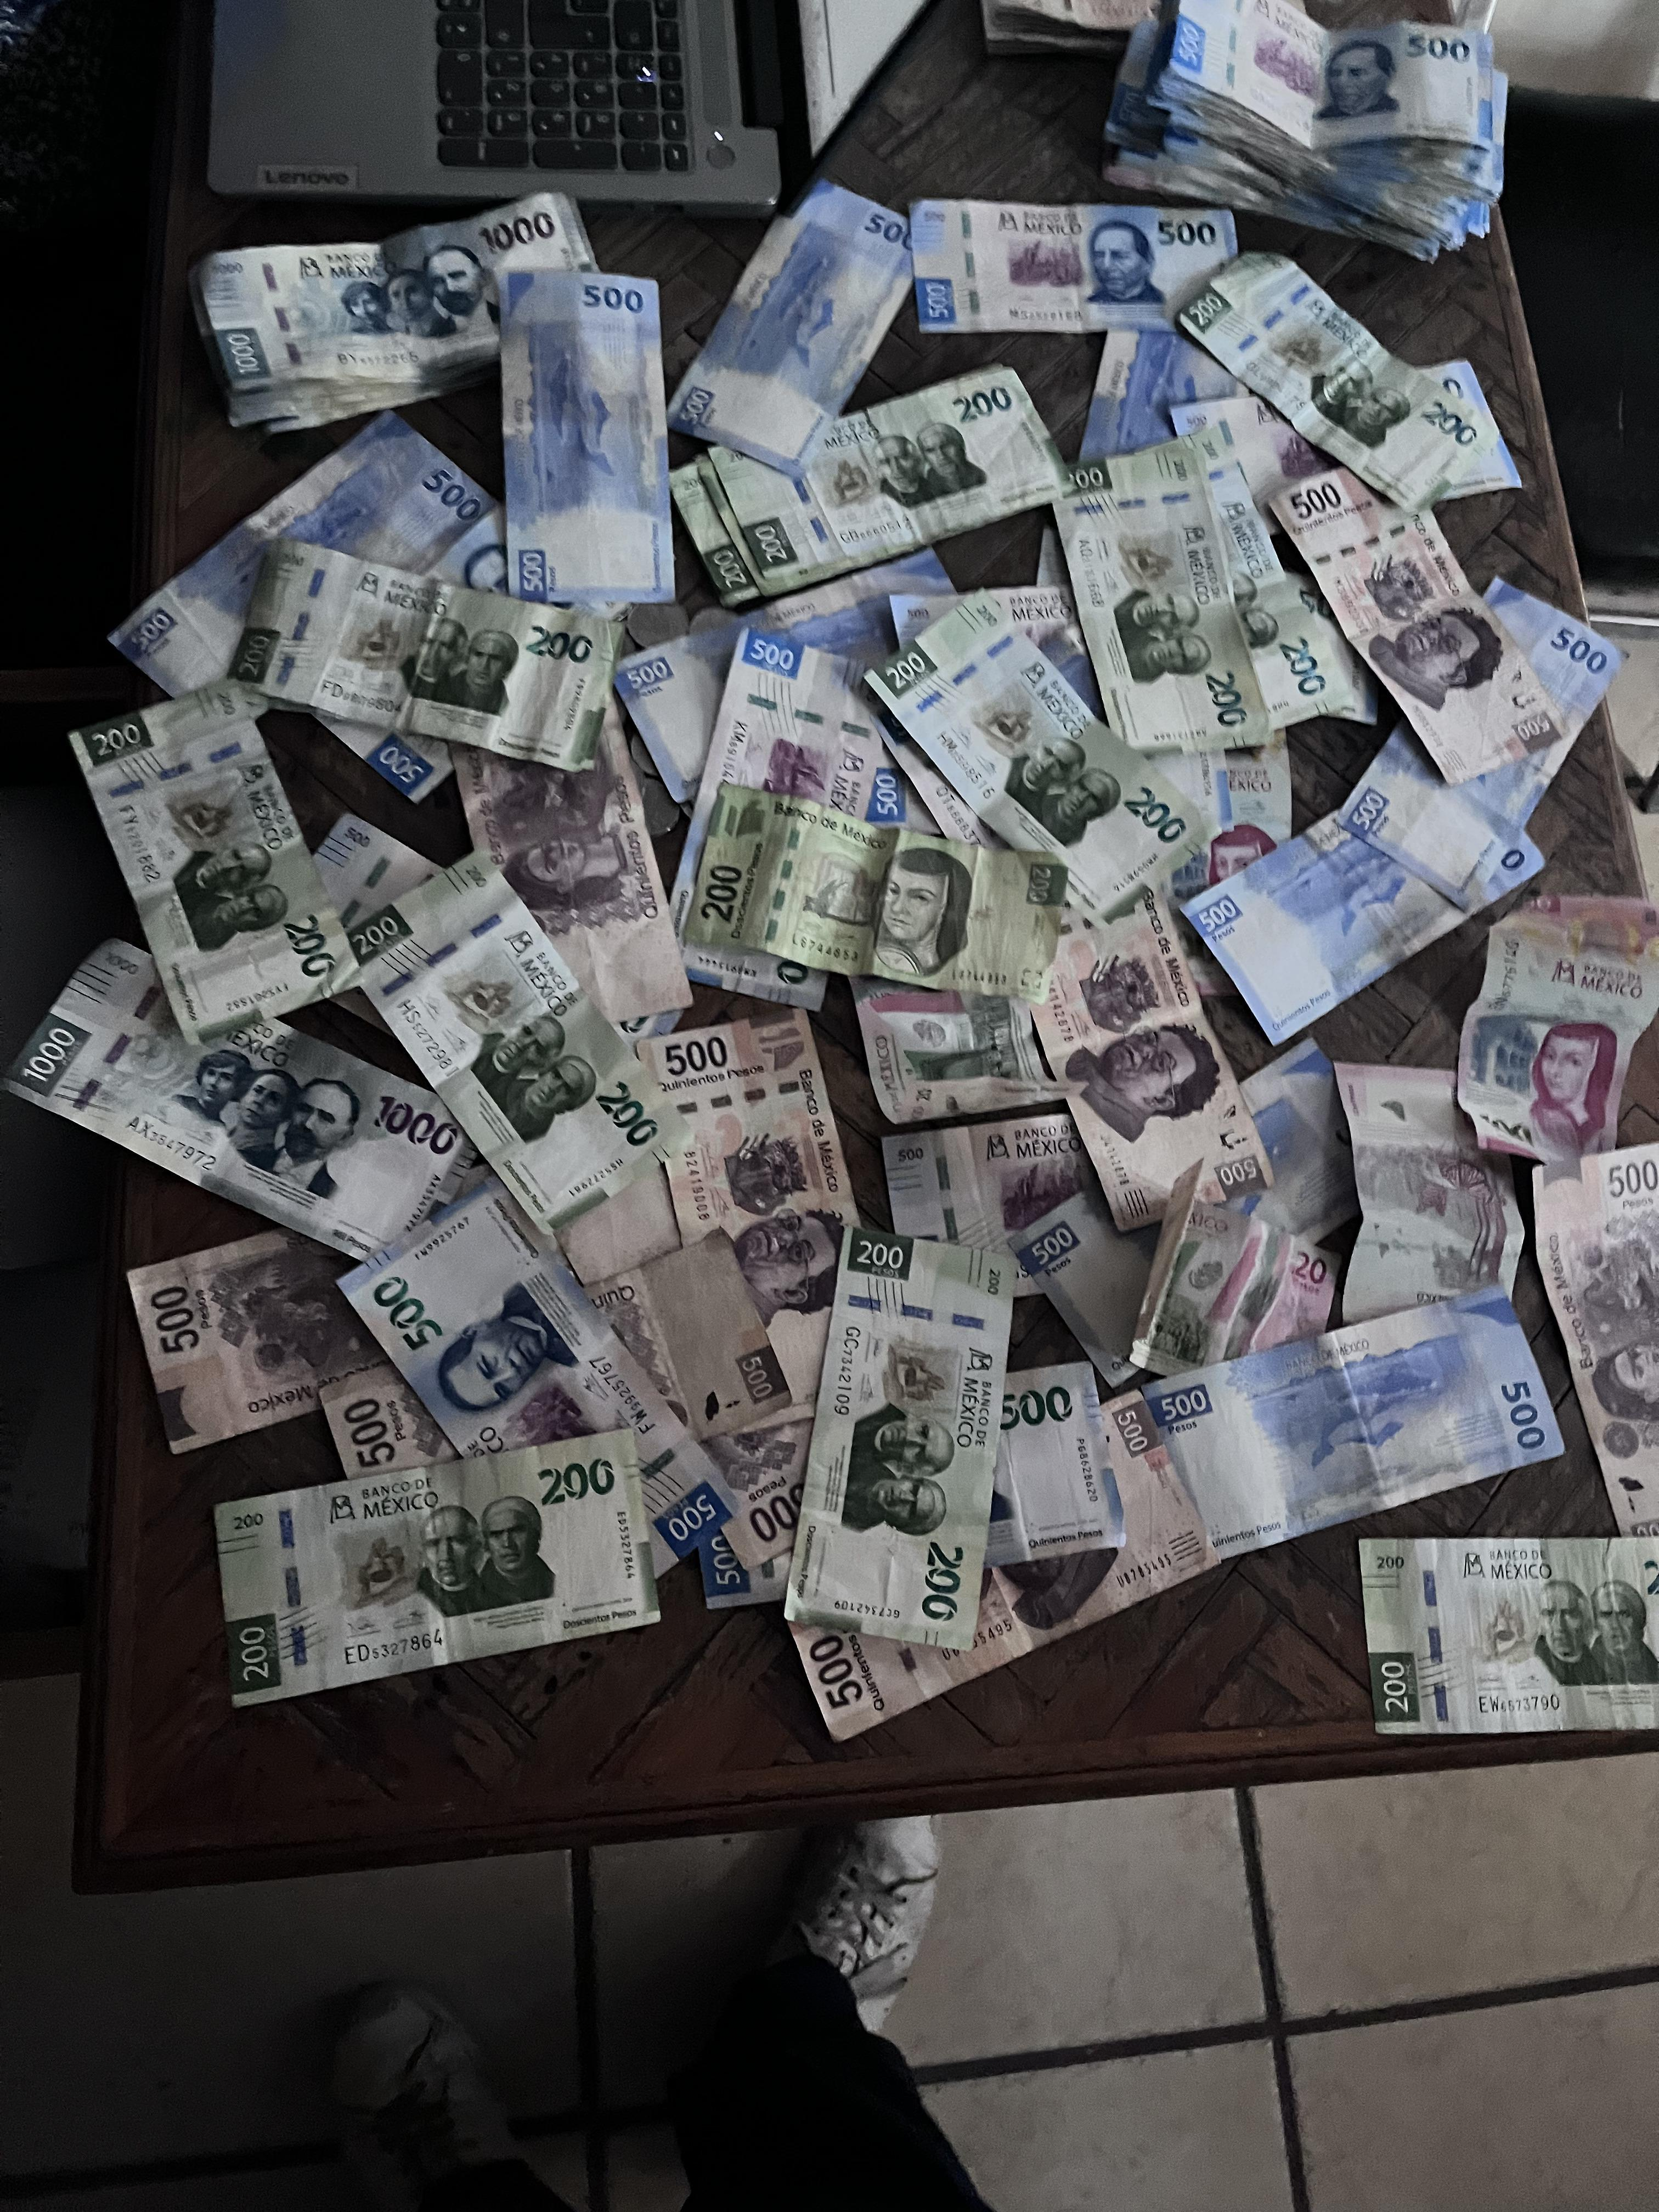100: (1453, 887, 1659, 1158)
1000: (17, 925, 495, 1285), (173, 195, 620, 418)
20: (1112, 1151, 1359, 1399)
200: (335, 845, 725, 1240), (195, 1442, 671, 1709), (870, 589, 1204, 916), (789, 1214, 1028, 1660), (1164, 230, 1541, 512), (667, 366, 1077, 624), (40, 679, 342, 1024), (242, 528, 629, 789), (667, 773, 1058, 1022), (1140, 411, 1373, 754), (1035, 439, 1274, 773), (1344, 1519, 1659, 1737)
500: (716, 1395, 1237, 1716), (617, 1017, 894, 1430), (434, 690, 716, 1045), (978, 887, 1277, 1221), (108, 1224, 436, 1486), (1513, 1118, 1659, 1531)
500 nuevo: (336, 1179, 774, 1601), (87, 409, 530, 749), (983, 1045, 1399, 1371), (1098, 1292, 1558, 1566), (1192, 765, 1547, 1036), (1269, 449, 1586, 752), (490, 265, 704, 597), (692, 169, 908, 467), (1406, 564, 1600, 888), (908, 197, 1241, 343), (1166, 2, 1483, 155)
